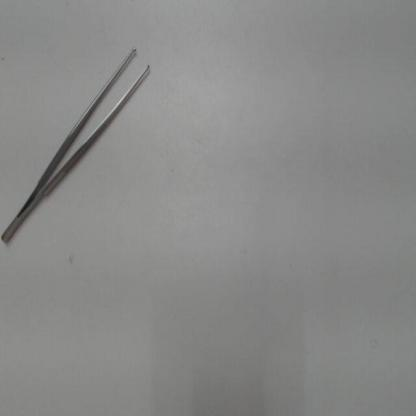Gillies Toothed Dissector: (0, 42, 157, 249)
